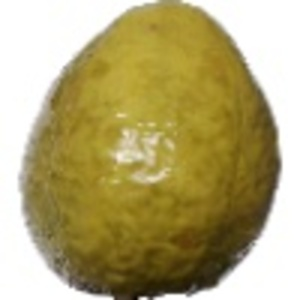goiaba: (9, 3, 283, 290)
